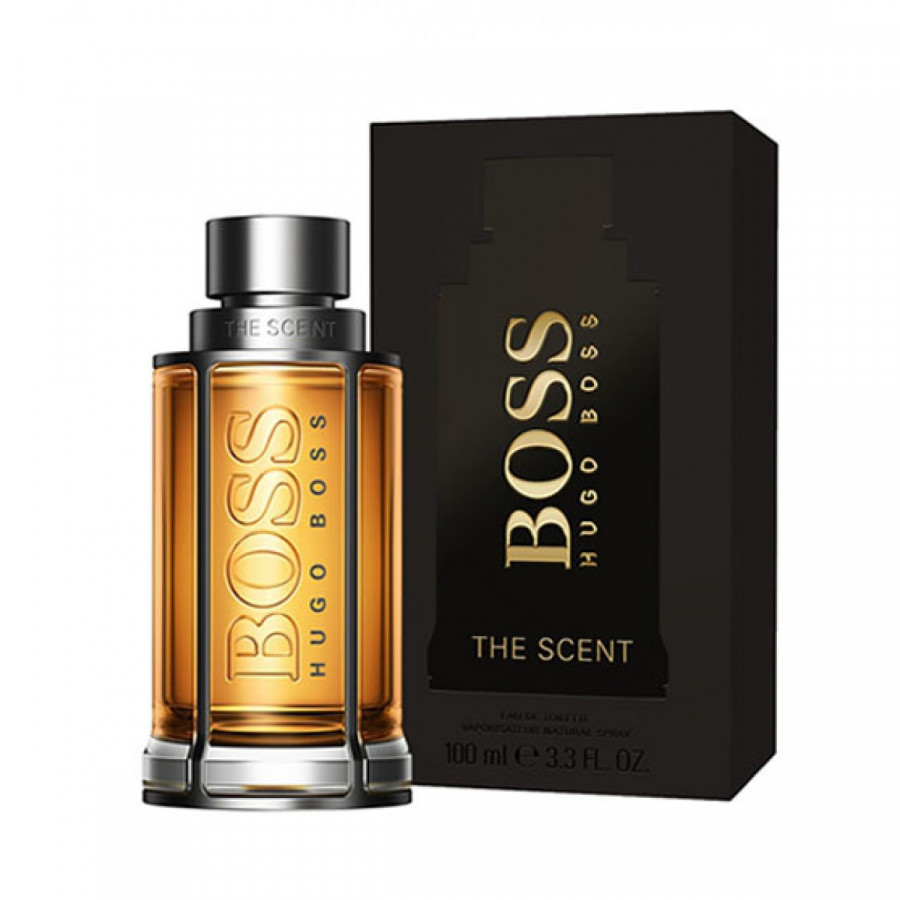Hugo Boss: (305, 407, 339, 691), (575, 310, 609, 575)
